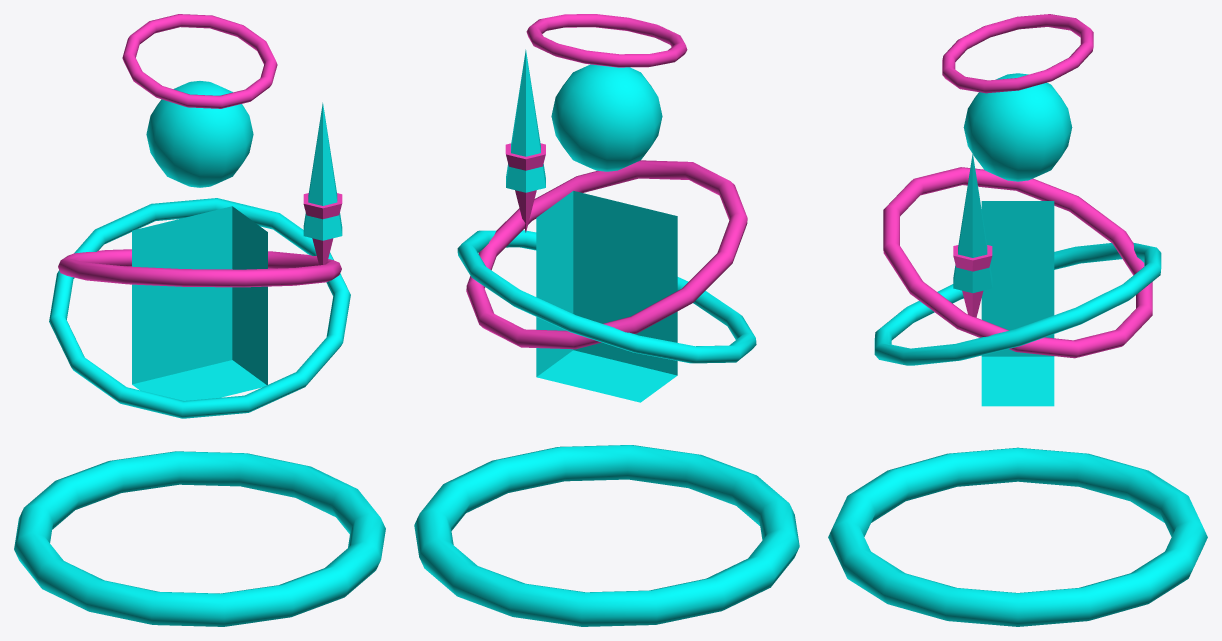
Rendered from holo_queen.glb.
3 renders of one model, left to right at view 1: azimuth 30°, elevation 25°; view 2: azimuth 150°, elevation 25°; view 3: azimuth 270°, elevation 25°, orthographic. The views are drawn at different scales.
Parts seen in each view (by area): view 1: holo_queen; view 2: holo_queen; view 3: holo_queen.
Part boxes in pixels (left/top/right/bottom): holo_queen: left=14, top=14, right=385, bottom=626; holo_queen: left=414, top=14, right=799, bottom=626; holo_queen: left=828, top=14, right=1207, bottom=626.
Size of the model in its own units: 0.84 by 1.27 by 0.84.
